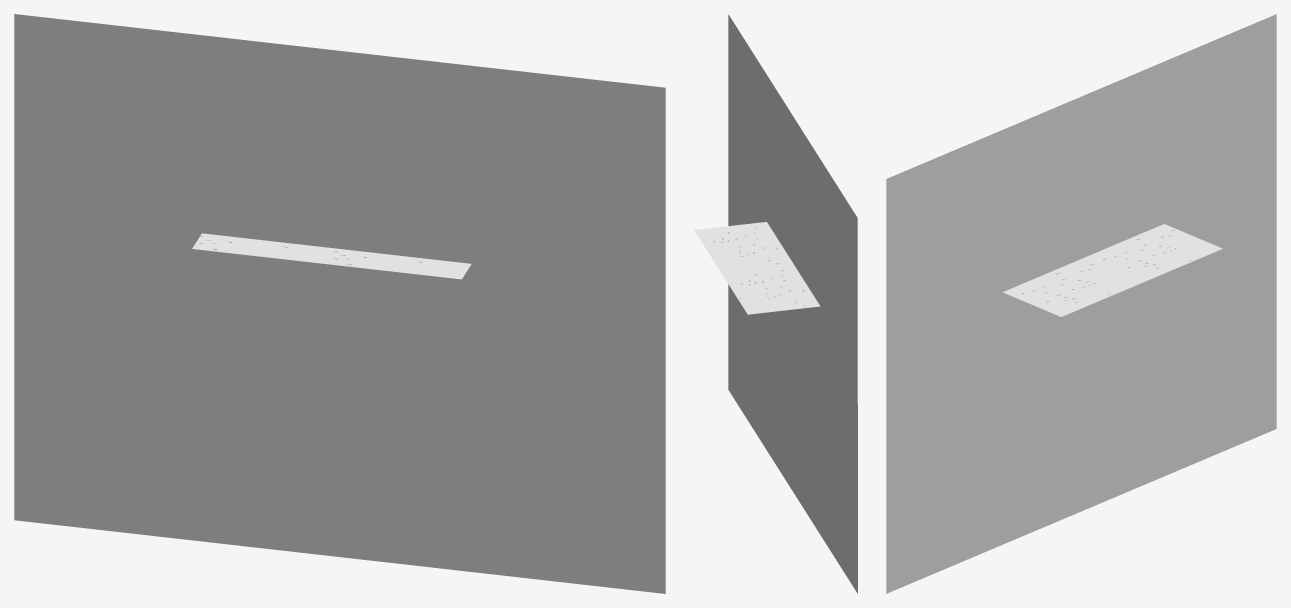
The model's file is BackgroundContainer.fbx.
3 views of the same model, side by side, from view 1: azimuth 30°, elevation 25°; view 2: azimuth 150°, elevation 25°; view 3: azimuth 270°, elevation 25° (orthographic). The views are drawn at different scales.
Parts seen in each view (by area): view 1: Background, FishWall; view 2: Background, FishWall; view 3: Background, FishWall.
Boxes of the visible parts, box(x1,y1,x2,y2) form: Background: box(14, 14, 665, 593); FishWall: box(192, 233, 471, 279); Background: box(728, 14, 857, 593); FishWall: box(694, 222, 820, 314); Background: box(886, 14, 1276, 593); FishWall: box(1003, 224, 1222, 316).
Size of the model in its own units: 51.19 by 60 by 51.19.
2 materials, 1 textured.
